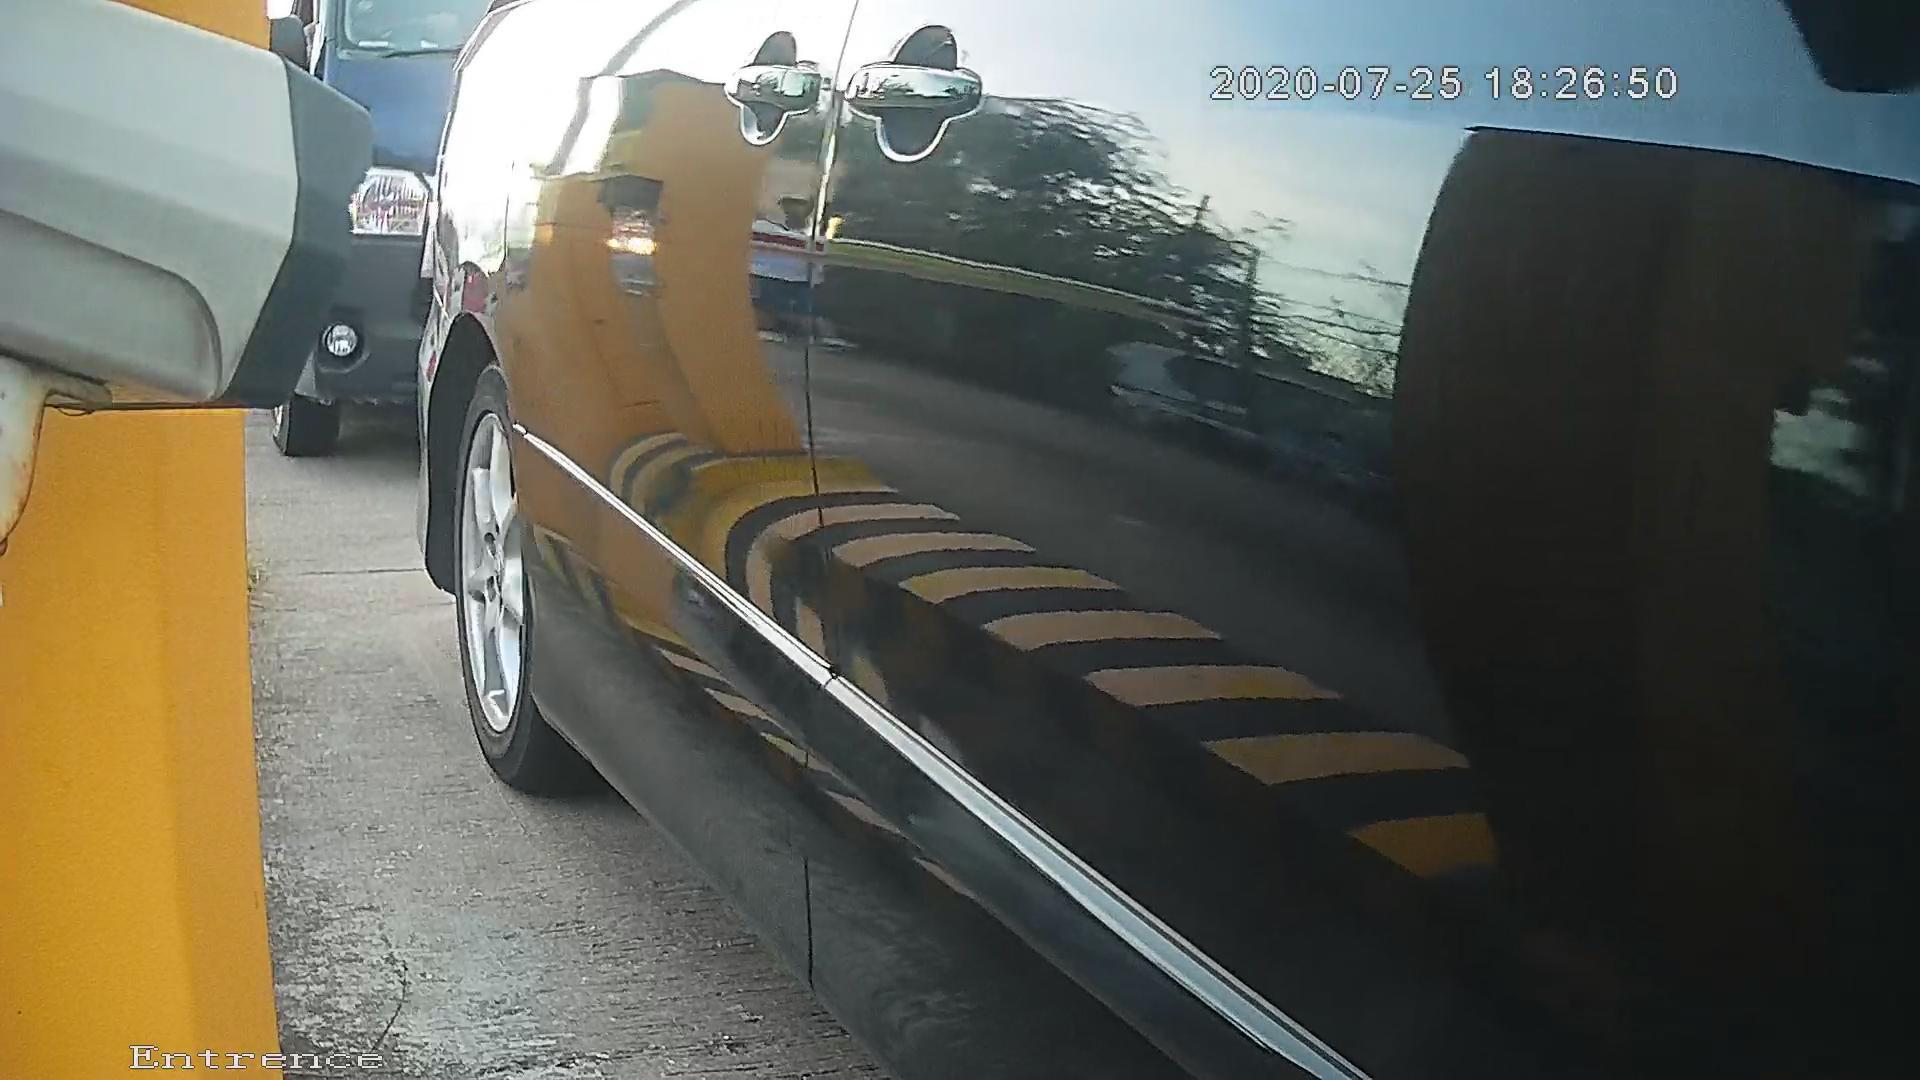privatecar: (396, 1, 1920, 1080)
